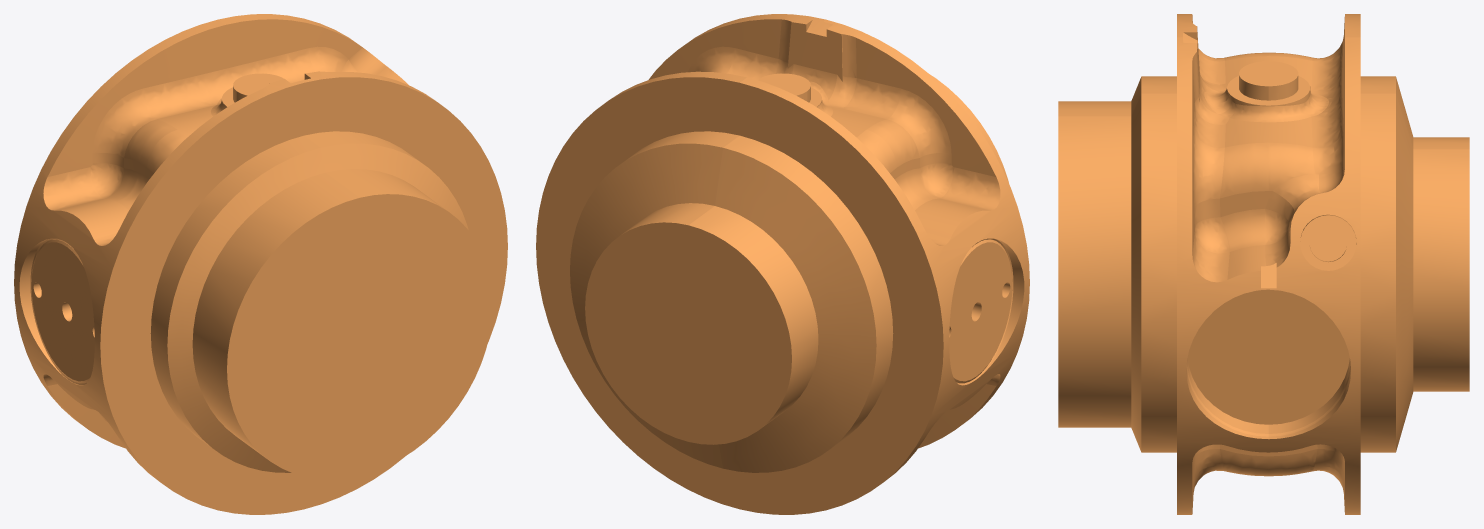
The picture shows the model from 3 angles, left to right: view 1: azimuth 30°, elevation 25°; view 2: azimuth 150°, elevation 25°; view 3: azimuth 270°, elevation 25°; orthographic projection. The views are drawn at different scales.
Visible parts, largest first — view 1: mesh_0; view 2: mesh_0; view 3: mesh_0.
Boxes of the visible parts, x1,y1,x2,y2 form: mesh_0: (14, 14, 507, 514); mesh_0: (536, 14, 1029, 514); mesh_0: (1058, 14, 1469, 514).
Size of the model in its own units: 0.1595 by 0.1595 by 0.131.
